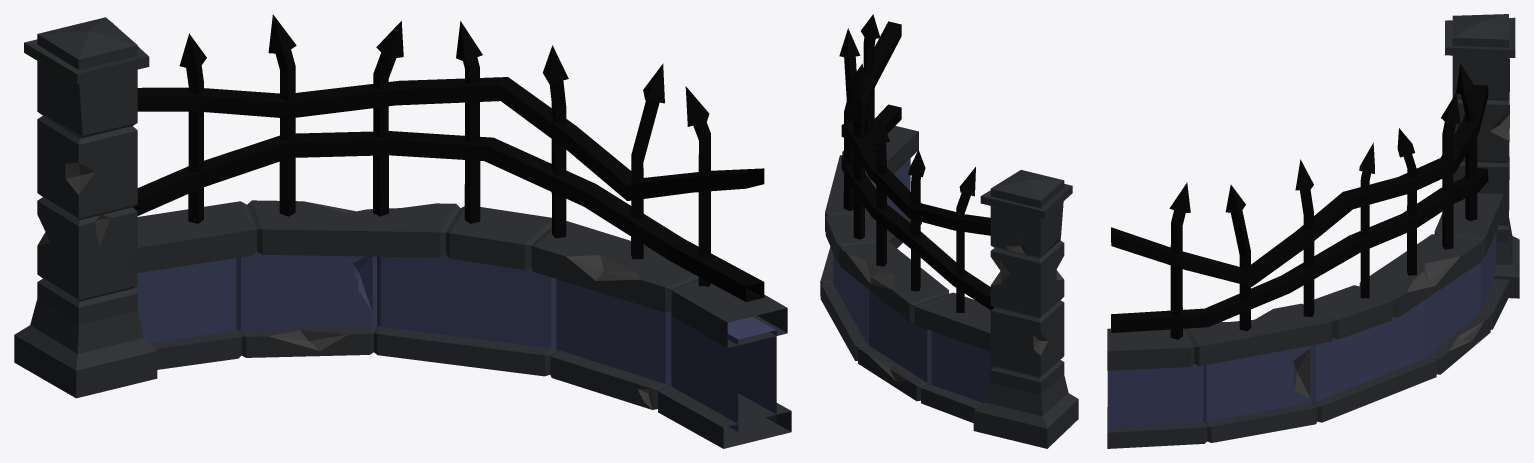
The model's file is GraveyardCorner270Wall (2).fbx.
3 views of the same model, side by side, from view 1: azimuth 30°, elevation 25°; view 2: azimuth 150°, elevation 25°; view 3: azimuth 270°, elevation 25° (orthographic). The views are drawn at different scales.
Parts seen in each view (by area): view 1: Cube; view 2: Cube; view 3: Cube.
Boxes of the visible parts, left/top/right/bottom form: Cube: left=14, top=14, right=791, bottom=448; Cube: left=820, top=14, right=1078, bottom=448; Cube: left=1107, top=14, right=1519, bottom=448.
Bounding box in the file's own units: 231 × 146 × 211.
